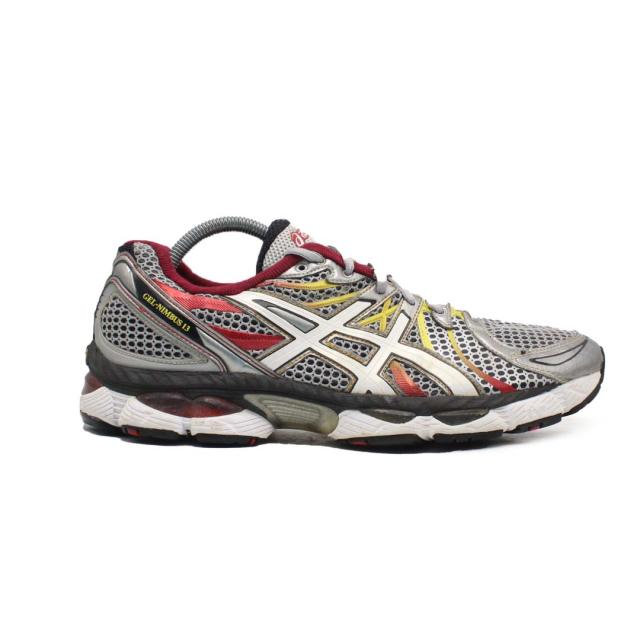heel: (93, 243, 215, 378)
midsole: (79, 349, 601, 445)
uppersole: (192, 220, 596, 403)
